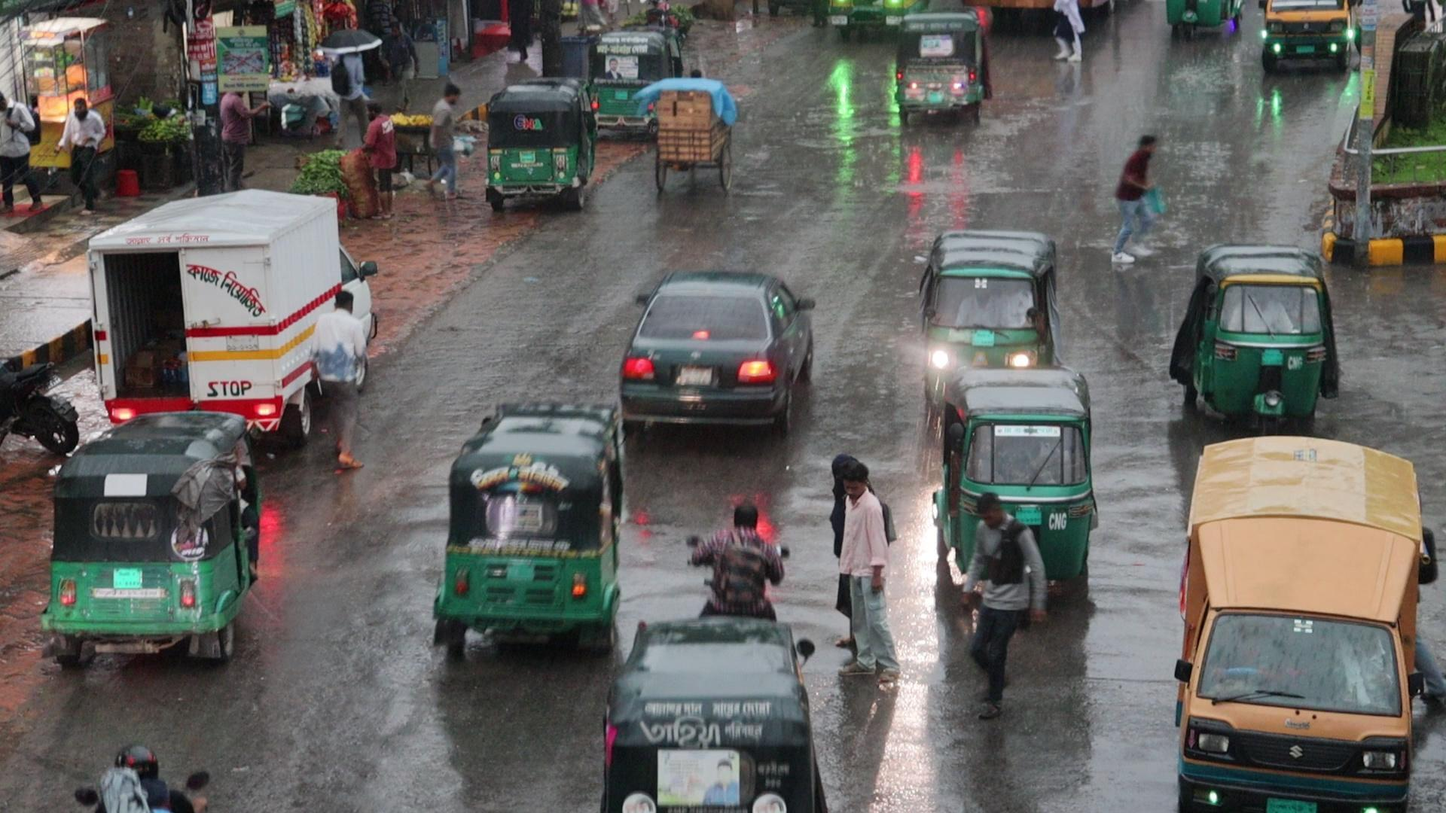Car: (623, 262, 818, 441)
Truck: (1165, 435, 1446, 813)
